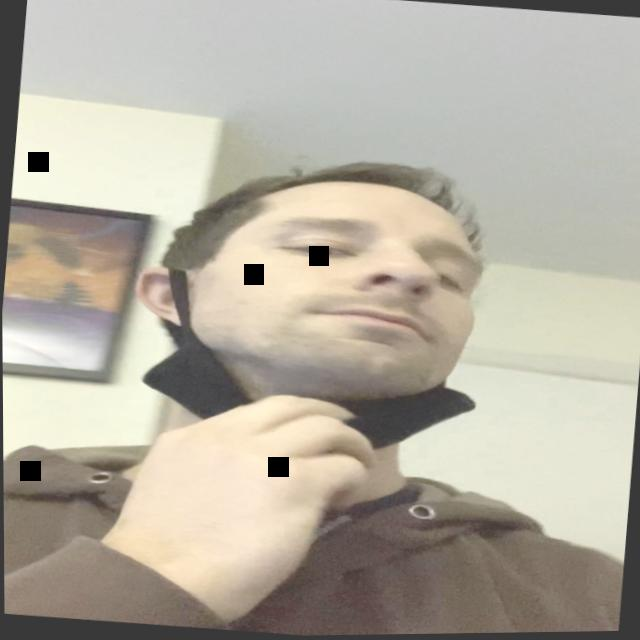NO-Mask: (152, 169, 491, 430)
